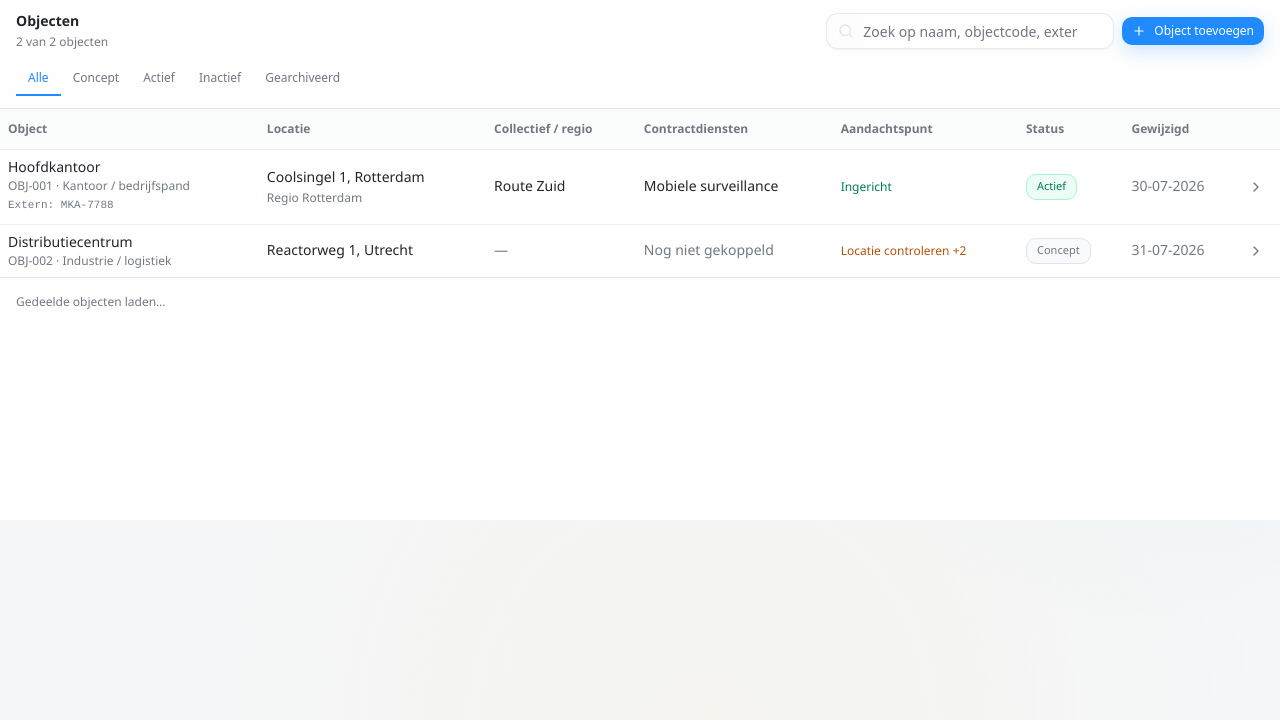
Test: ObjectsTab › zoekt en filtert de tabel zonder de objectcontext kwijt te raken
Type "utrecht" into the field named "Objecten zoeken" at (970, 31), box left=826, top=13, right=1114, bottom=49
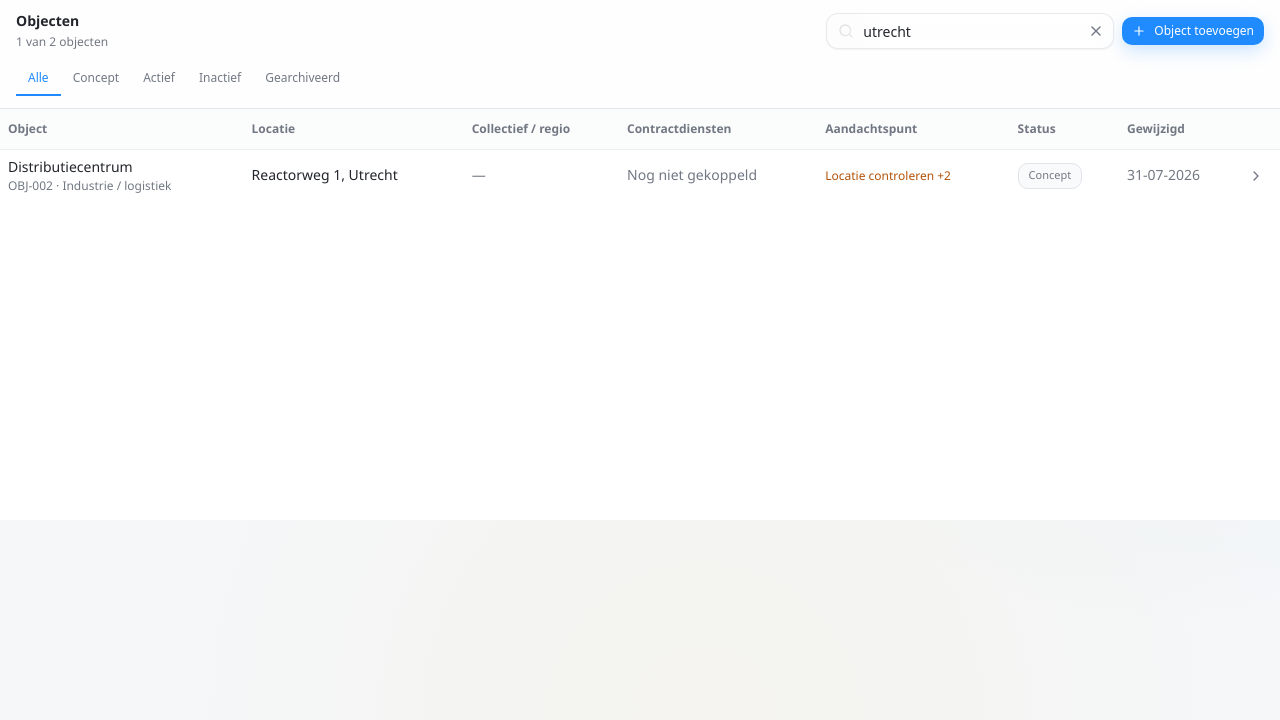
Expected: the text "Distributiecentrum" is shown, left=8, top=158, right=133, bottom=176
Now the text "Hoofdkantoor" is gone
Click the tab "Actief" at (159, 79), box left=131, top=62, right=187, bottom=96
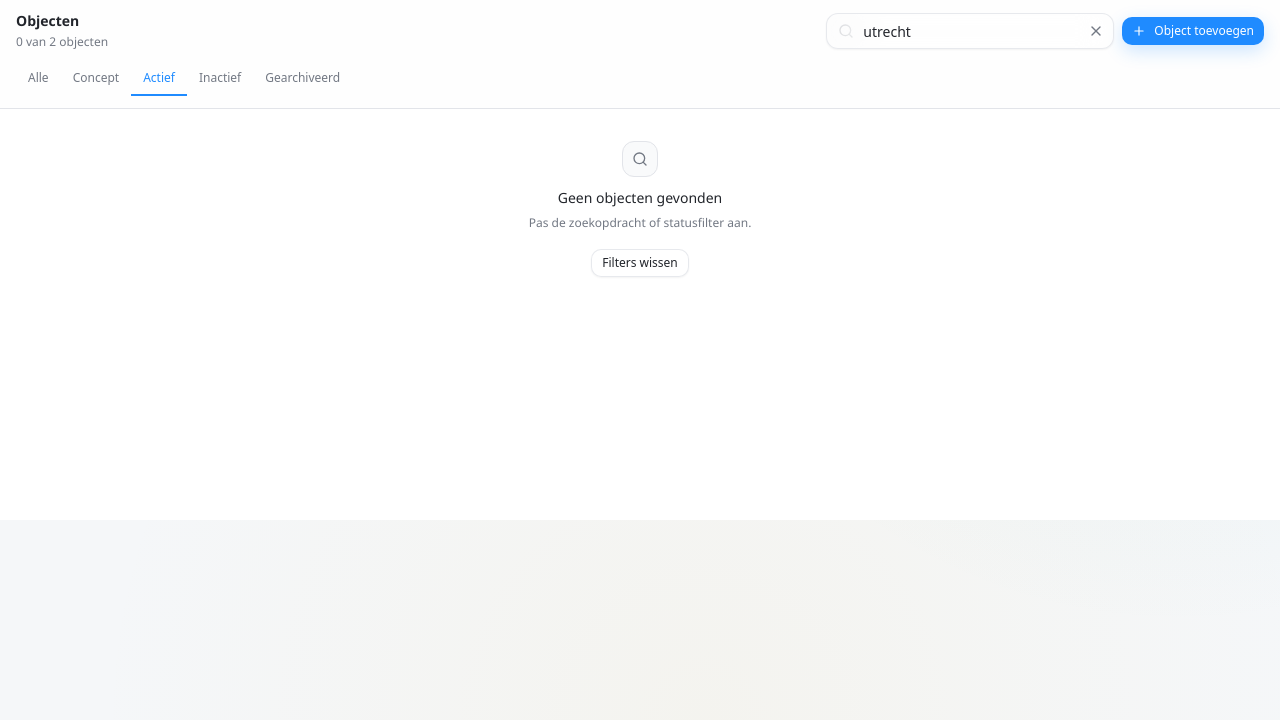
Now the text "Geen objecten gevonden" is shown, box left=558, top=189, right=722, bottom=209
Click the button "Filters wissen" at (640, 262), box left=591, top=248, right=689, bottom=276
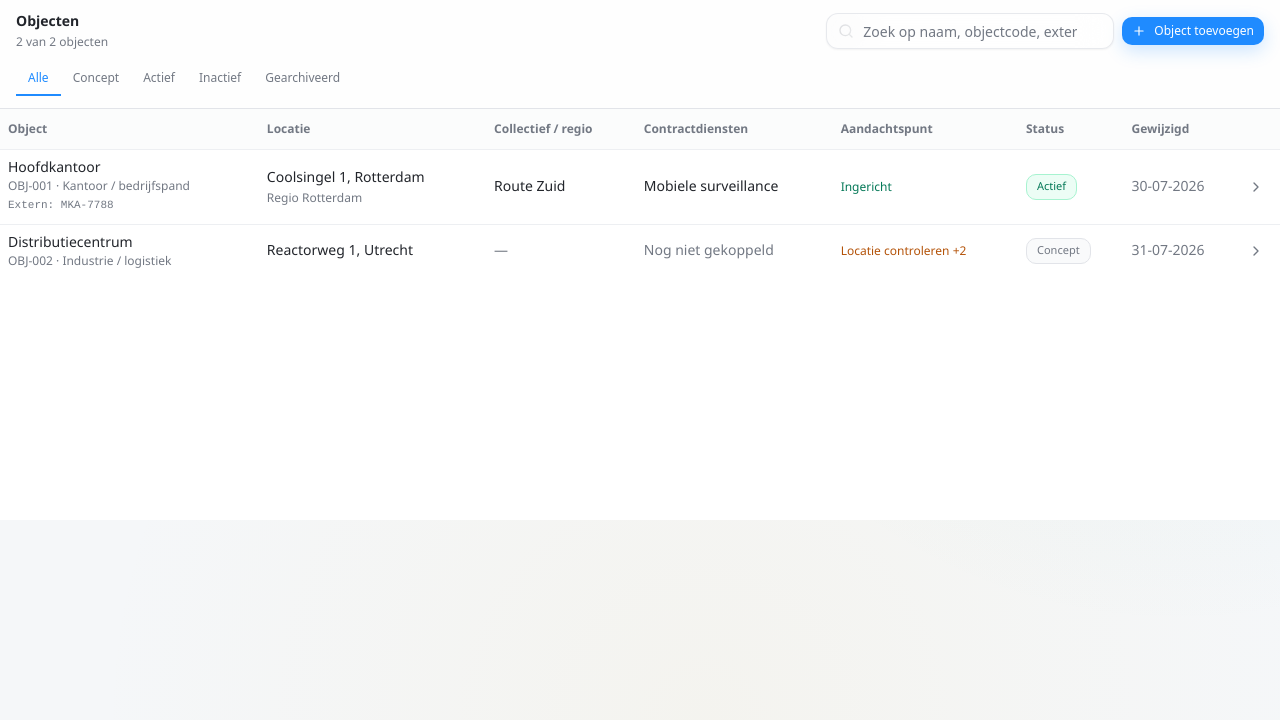
Now the table is shown, box left=0, top=109, right=1279, bottom=276
